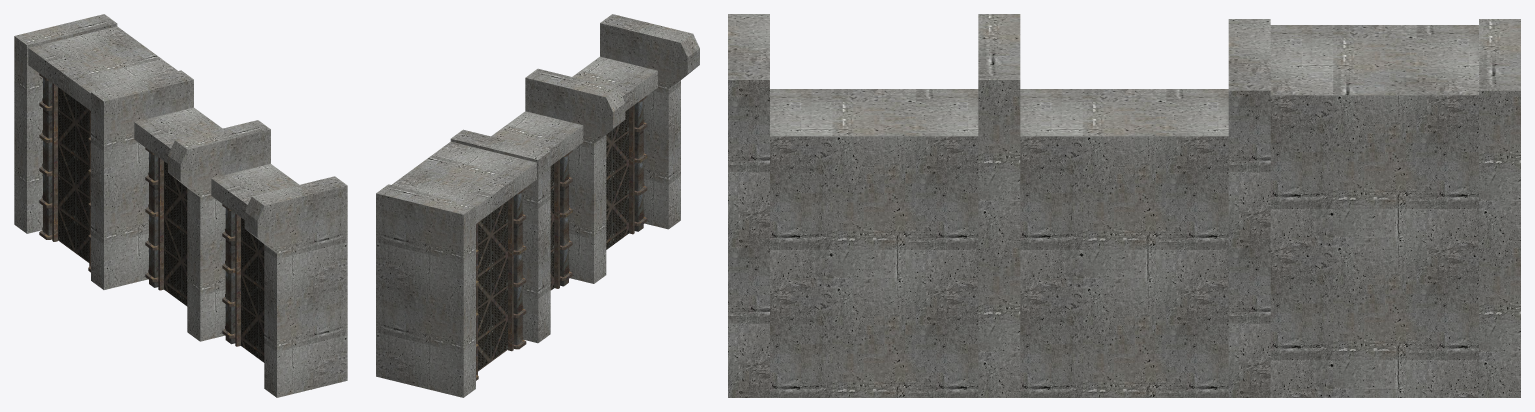
File: wall2.fbx
3 views of the same model, side by side, from view 1: azimuth 30°, elevation 25°; view 2: azimuth 150°, elevation 25°; view 3: azimuth 270°, elevation 25° (orthographic). The views are drawn at different scales.
Visible parts, largest first — view 1: Object.001; view 2: Object.001; view 3: Object.001.
Boxes of the visible parts, x1,y1,x2,y2 form: Object.001: (14,14,347,397); Object.001: (376,14,699,397); Object.001: (728,14,1520,397).
Bounding box in the file's own units: 1625 × 3375 × 7600.
